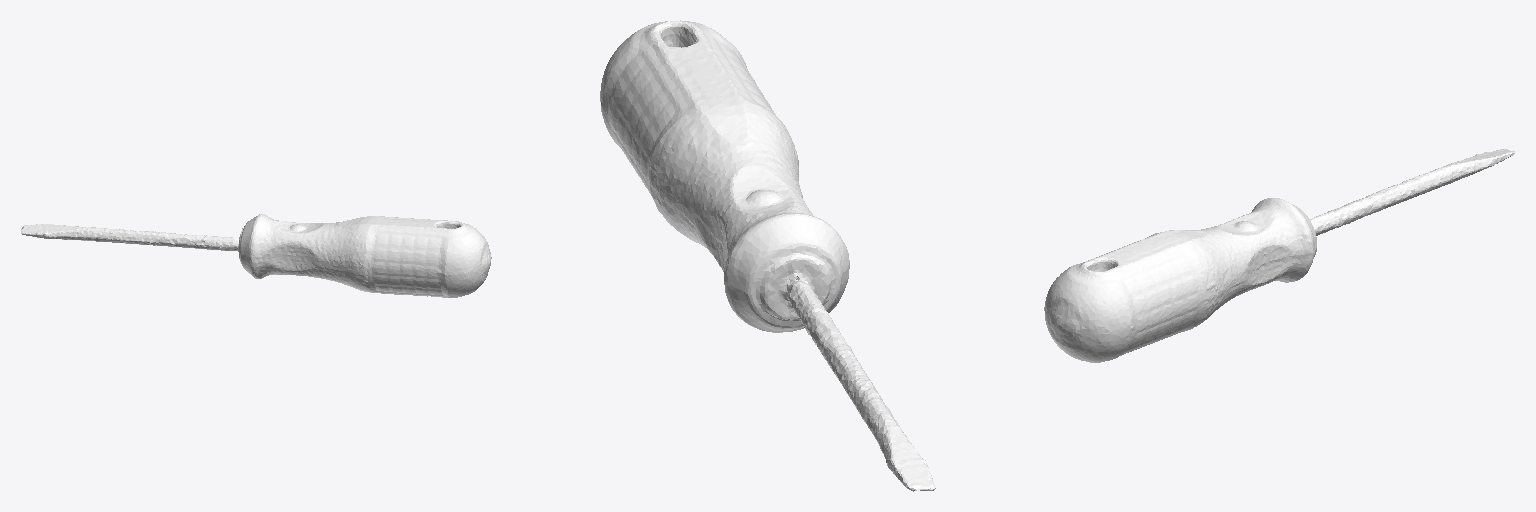
robot.urdf — 044_flat_screwdriver:
<?xml version='1.0' encoding='ASCII'?>
<robot name="044_flat_screwdriver">
    <link name="object_044_flat_screwdriver_base_link">
        <visual>
            <origin rpy="0 0 0" xyz="0 0 0"/>
            <geometry>
                <mesh filename="textured_simple.obj" scale="1.0 1.0 1.0"/>
            </geometry>
            <material name="texture">
                <color rgba="1.0 1.0 1.0 1.0" />
            </material>
        </visual>
        <collision>
            <origin rpy="0 0 0" xyz="0 0 0"/>
            <geometry>
                <mesh filename="textured_simple.obj" scale="1.0 1.0 1.0"/>
            </geometry>
        </collision>   
        <inertial>
            <mass value="0.0984"/>
            <inertia ixx='5.482084035982806e-08' ixy='4.791059031911211e-08' ixz='-2.6485040826176814e-09' iyy='5.836852150533894e-08' iyz='2.5624075660295626e-09' izz='1.0441454035953233e-07'/>
        </inertial>
    </link>
</robot>

--- Render facts (derived) ---
The picture shows the robot from 3 angles, left to right: view 1: azimuth 30°, elevation 25°; view 2: azimuth 150°, elevation 25°; view 3: azimuth 270°, elevation 25°; orthographic projection.
Model 044_flat_screwdriver with 1 links and 0 joints (none), rooted at object_044_flat_screwdriver_base_link, posed every joint at zero.
Visible links, largest first — view 1: object_044_flat_screwdriver_base_link; view 2: object_044_flat_screwdriver_base_link; view 3: object_044_flat_screwdriver_base_link.
Link boxes in pixels (x1,y1,x2,y2): object_044_flat_screwdriver_base_link: (21, 214, 491, 297); object_044_flat_screwdriver_base_link: (600, 20, 935, 491); object_044_flat_screwdriver_base_link: (1044, 149, 1514, 362).
Size in the robot's own frame: 0.1619 by 0.1569 by 0.035 metres.
1 mesh visuals loaded from 1 distinct referenced files (1 OBJ).
